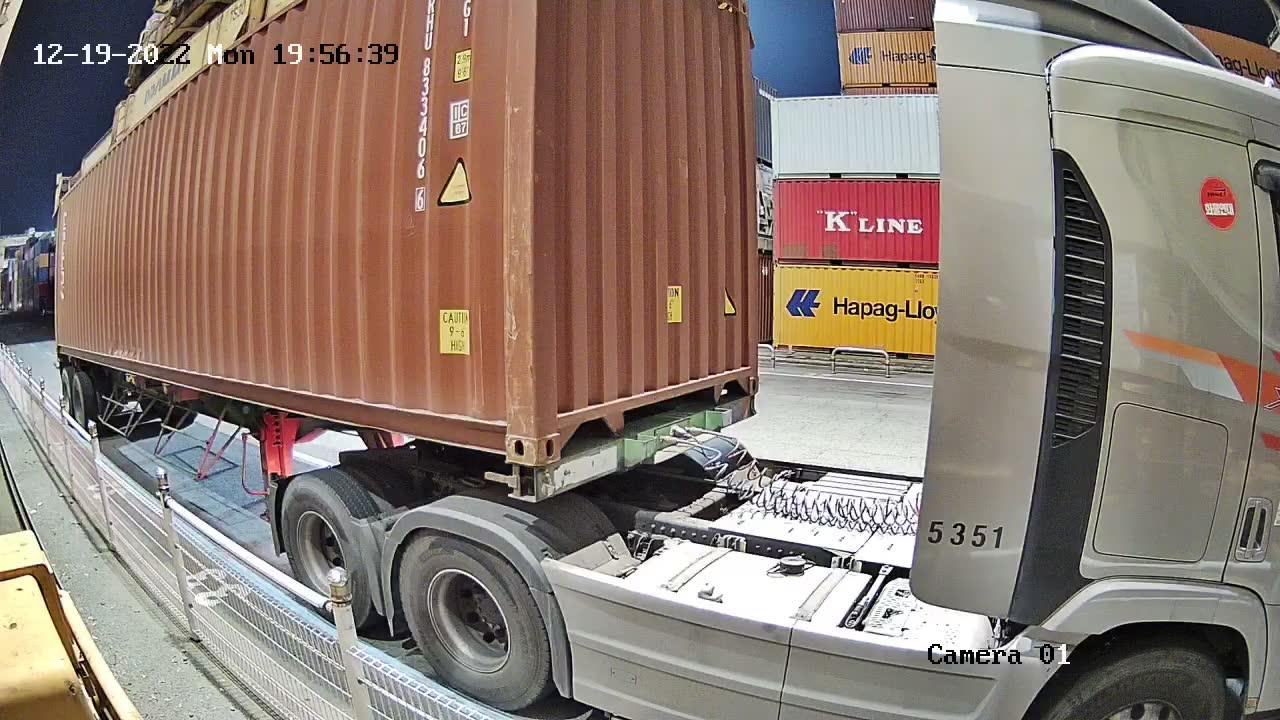Chassis: (508, 394, 756, 500)
Cone: (506, 465, 538, 501)
Hole_L: (535, 397, 590, 467)
Hole_R: (472, 397, 536, 467), (718, 350, 760, 401)
Tire: (398, 531, 550, 710), (281, 475, 366, 617)
